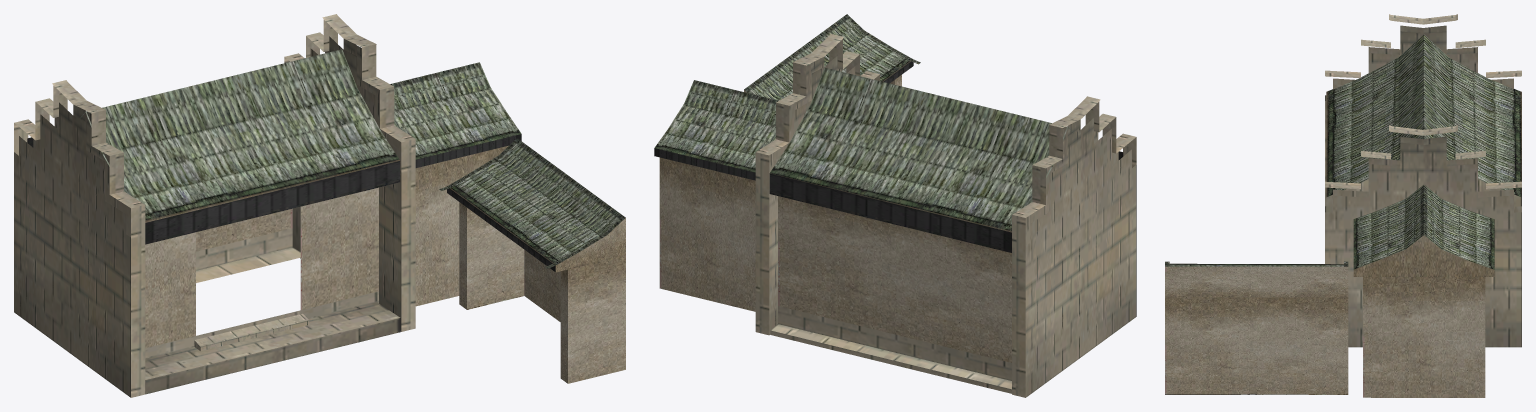
Rendered from chin_mc.dae.
3 renders of one model, left to right at view 1: azimuth 30°, elevation 25°; view 2: azimuth 150°, elevation 25°; view 3: azimuth 270°, elevation 25°, orthographic. The views are drawn at different scales.
Visible parts, largest first — view 1: chin_mc_PIVOT; view 2: chin_mc_PIVOT; view 3: chin_mc_PIVOT.
Part boxes in pixels (x1,y1,x2,y2): chin_mc_PIVOT: (14, 14, 625, 397); chin_mc_PIVOT: (654, 14, 1136, 397); chin_mc_PIVOT: (1165, 14, 1521, 397).
Bounding box in the file's own units: 17.33 × 15.59 × 10.43.
